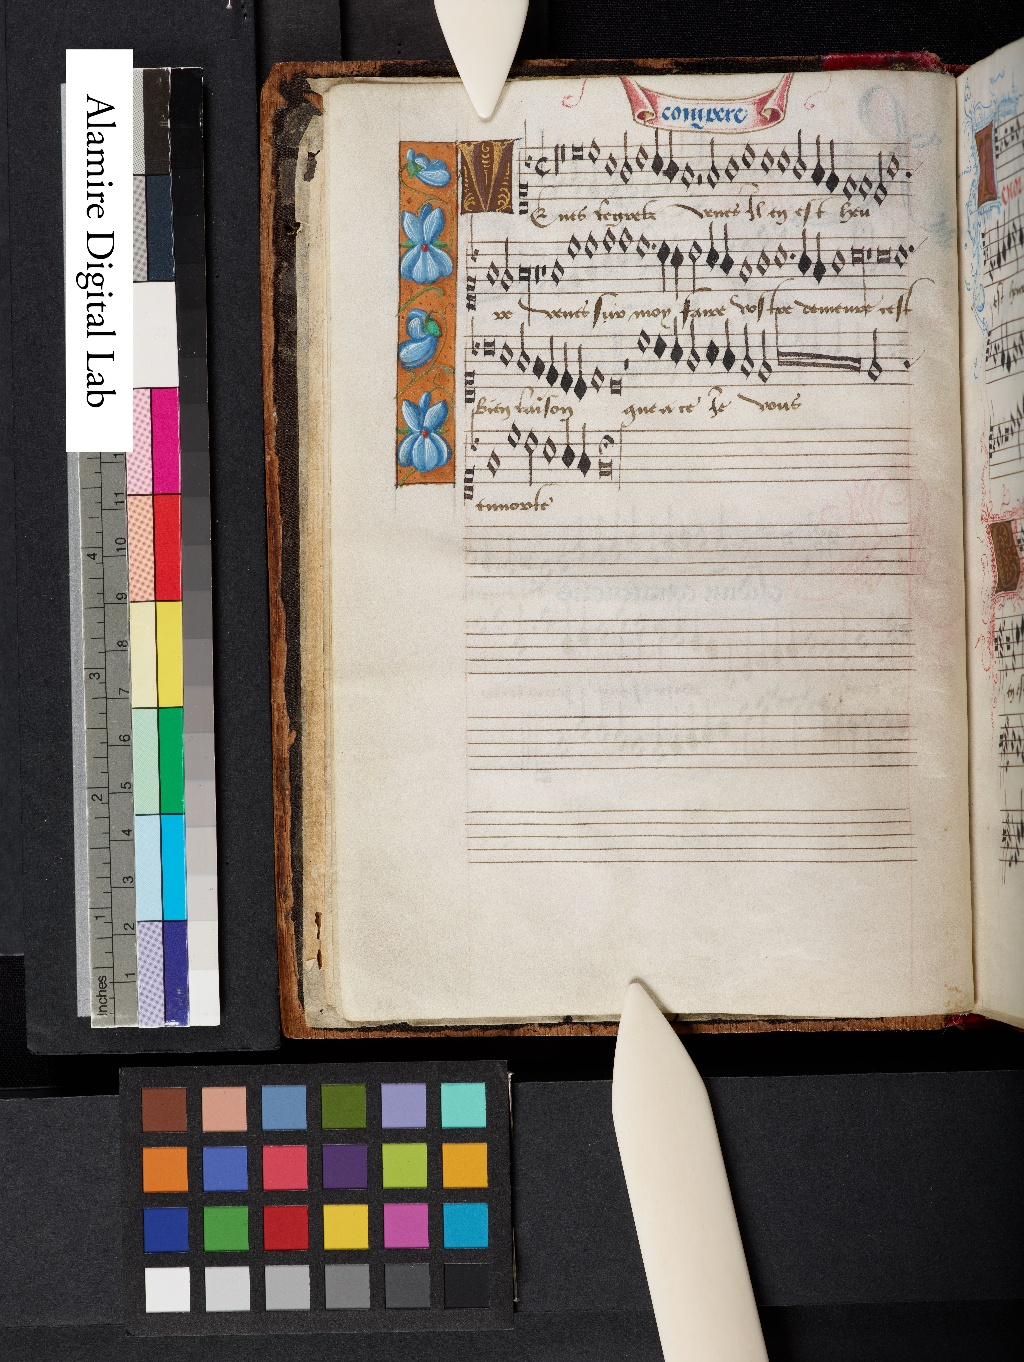Imincut: (530, 134, 552, 187)
breve rest: (559, 132, 568, 198)
breve_4: (567, 134, 587, 167)
c clef_11: (514, 171, 532, 218)
custos_8: (899, 159, 922, 189)
flat_5: (517, 124, 532, 174)
longa rest: (550, 134, 558, 203)
minim rest: (696, 140, 705, 198)
minim_11: (870, 144, 887, 210)
minim_7: (790, 124, 807, 189), (618, 125, 635, 187)
minim_8: (703, 130, 722, 197)
semibreve_10: (839, 165, 861, 207), (857, 167, 874, 205)
semibreve_4: (584, 131, 605, 171)
semibreve_5: (737, 134, 759, 175), (630, 134, 650, 175)
semibreve_6: (755, 140, 776, 182), (774, 140, 792, 180), (602, 144, 620, 182)
semibreve_7: (720, 147, 739, 190), (884, 145, 904, 185)
semibreve_8: (677, 154, 695, 197)
semiminim_6: (648, 122, 665, 182)
semiminim_7: (662, 120, 679, 189)
semiminim_8: (807, 127, 825, 195)
semiminim_9: (824, 132, 840, 200)
